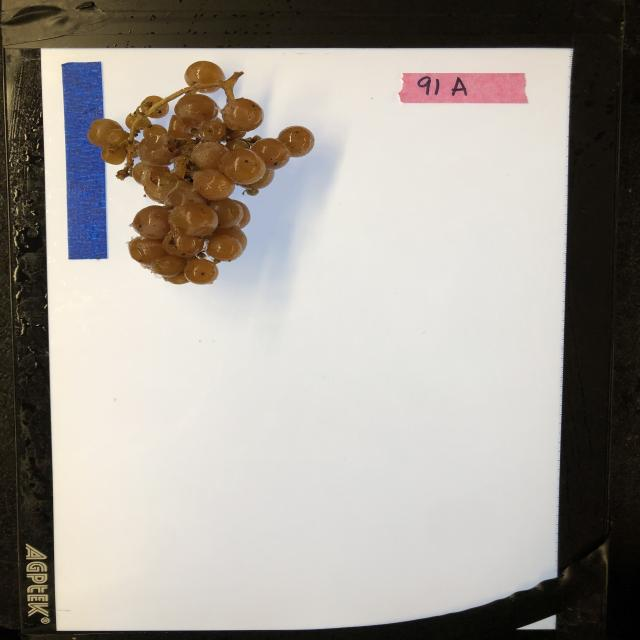grape_cluster: (86, 59, 317, 286)
index: (396, 72, 531, 105)
measure_label: (60, 61, 109, 260)
